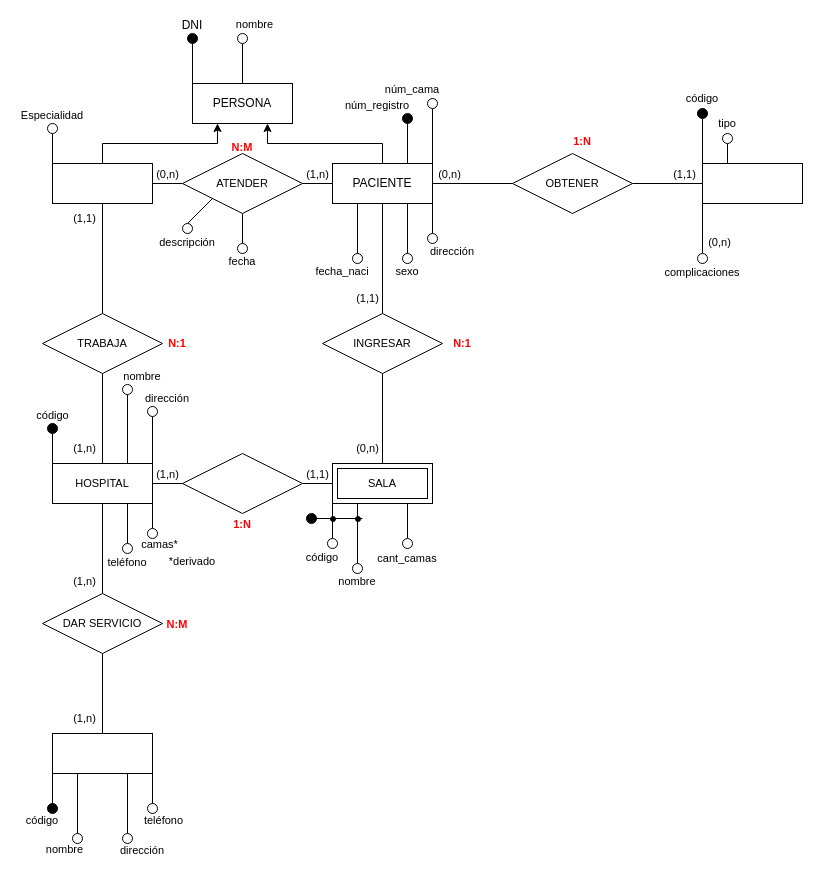
Image size: 820x875. Some labels were removed from this diagram. The centre of each missing label's shape, as x and y in pixels:
"CONTENER" goes at point (242, 483).
"DIAGNÓSTICO" goes at point (752, 183).
"LABORATORIO" goes at point (102, 753).
"MÉDICO" goes at point (102, 183).
